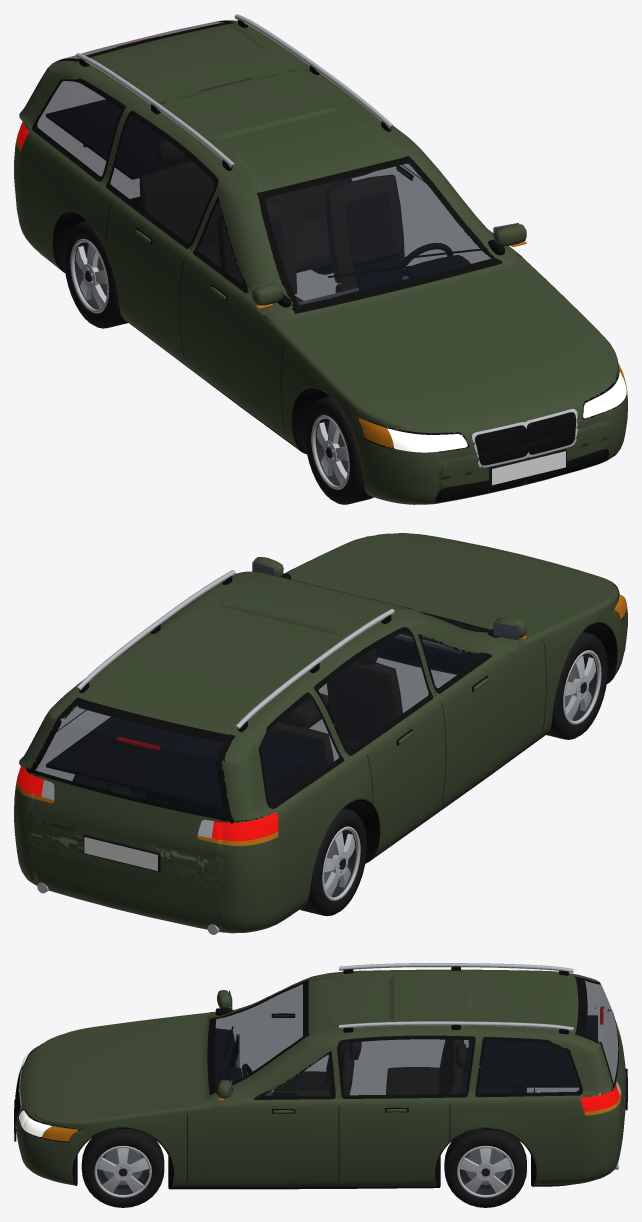
The model's file is car_estate.glb.
The picture shows the model from 3 angles, top to bottom: view 1: azimuth 30°, elevation 25°; view 2: azimuth 150°, elevation 25°; view 3: azimuth 270°, elevation 25°; orthographic projection. The views are drawn at different scales.
Visible parts, largest first — view 1: body, glass, wheel_FR_mesh, wheel_RR_mesh, headlight, plate, indicator_R; view 2: body, glass, wheel_RR_mesh, wheel_FR_mesh, taillight, plate, indicator_R, wheel_RL_mesh; view 3: body, glass, wheel_FL_mesh, wheel_RL_mesh, taillight, indicator_L, headlight, wheel_RR_mesh.
Part boxes in pixels (x1,y1,x2,y2): body: (14, 14, 627, 504); glass: (37, 21, 490, 305); wheel_FR_mesh: (305, 396, 373, 504); wheel_RR_mesh: (64, 220, 127, 328); headlight: (387, 372, 626, 452); plate: (492, 451, 565, 485); indicator_R: (16, 137, 393, 447); body: (14, 533, 627, 934); glass: (35, 616, 489, 816); wheel_RR_mesh: (300, 808, 367, 916); wheel_FR_mesh: (546, 631, 607, 739); taillight: (17, 737, 278, 841); plate: (84, 837, 157, 870); indicator_R: (197, 595, 626, 845); wheel_RL_mesh: (72, 775, 146, 799); body: (14, 963, 627, 1189); glass: (214, 981, 618, 1095); wheel_FL_mesh: (81, 1128, 164, 1207); wheel_RL_mesh: (444, 1129, 526, 1207); taillight: (580, 1007, 619, 1112); indicator_L: (42, 1092, 621, 1141); headlight: (19, 1049, 51, 1136); wheel_RR_mesh: (461, 1047, 526, 1093).
Bounding box in the file's own units: 1.91 × 1.53 × 4.98.
